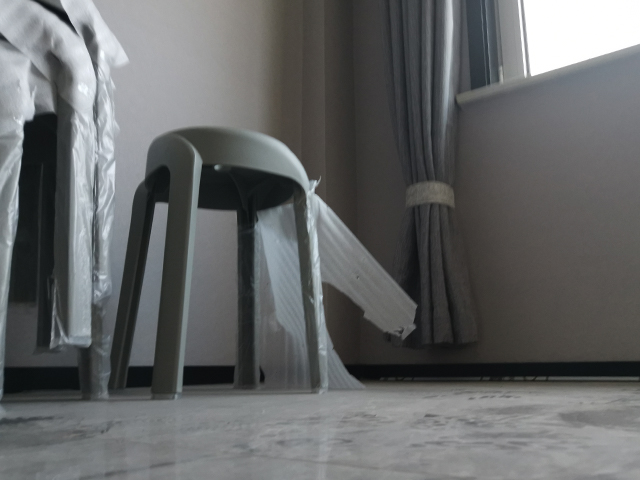curtain: (376, 1, 487, 351)
stool: (104, 122, 330, 403), (1, 1, 121, 403)
